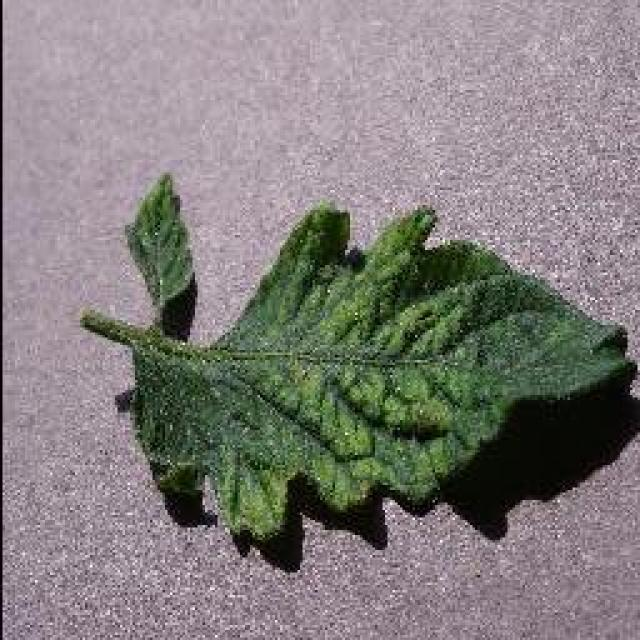Tomato___Tomato_mosaic_virus: (80, 175, 632, 540)
